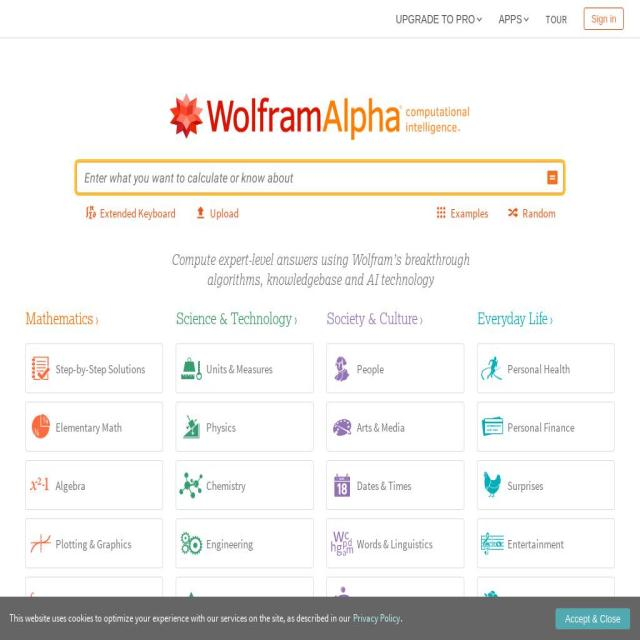button: (165, 55, 475, 162), (175, 344, 314, 394), (175, 402, 314, 452), (175, 460, 314, 510), (175, 518, 314, 568), (175, 576, 314, 626), (25, 344, 163, 394), (25, 402, 163, 452), (25, 460, 163, 510), (25, 518, 163, 568), (25, 576, 163, 626), (326, 344, 464, 394), (326, 402, 464, 452), (326, 460, 464, 510), (326, 518, 464, 568), (326, 576, 464, 626), (477, 344, 615, 394), (477, 402, 615, 452), (477, 460, 615, 510), (477, 518, 615, 568), (477, 576, 615, 626), (390, 4, 489, 34), (175, 309, 314, 327), (76, 201, 184, 224), (25, 309, 163, 327), (326, 309, 464, 327), (477, 309, 615, 327), (555, 607, 631, 630), (427, 201, 496, 224), (498, 201, 564, 224), (186, 201, 247, 224), (492, 4, 537, 34), (540, 4, 573, 34), (584, 8, 624, 30), (352, 610, 400, 626), (175, 635, 314, 640), (25, 635, 163, 640), (326, 635, 464, 640), (477, 635, 615, 640), (546, 169, 559, 186)
field: (81, 162, 542, 193)
heading: (176, 308, 292, 328), (327, 308, 417, 328), (478, 308, 548, 328), (26, 308, 93, 328)
image: (168, 93, 472, 140), (26, 348, 56, 388), (26, 406, 56, 446), (26, 465, 56, 505), (26, 524, 56, 564), (26, 582, 56, 622), (176, 348, 206, 388), (176, 406, 206, 446), (176, 465, 206, 505), (176, 524, 206, 564), (176, 582, 206, 622), (327, 348, 357, 388), (327, 406, 357, 446), (327, 465, 357, 505), (327, 524, 357, 564), (327, 582, 357, 622), (478, 348, 508, 388), (478, 406, 508, 446), (478, 465, 508, 505), (478, 524, 508, 564), (478, 582, 508, 622), (546, 169, 559, 186), (84, 204, 97, 221), (194, 204, 207, 221), (435, 204, 447, 221), (507, 204, 519, 221), (474, 13, 484, 25), (522, 13, 531, 25)
text: (170, 250, 470, 268), (10, 611, 352, 625), (206, 270, 434, 288), (206, 593, 302, 610), (56, 360, 145, 377), (100, 204, 176, 221), (56, 535, 131, 552), (357, 535, 432, 552), (56, 593, 130, 610), (508, 593, 582, 610), (56, 418, 122, 435), (206, 360, 272, 377), (508, 418, 574, 435), (396, 12, 476, 26), (357, 593, 422, 610), (508, 360, 570, 377), (508, 535, 564, 552), (357, 477, 411, 493), (357, 418, 405, 435), (206, 535, 253, 552), (353, 611, 400, 625), (206, 477, 246, 493), (451, 204, 488, 221), (522, 204, 556, 221), (508, 477, 543, 493), (206, 418, 236, 435), (210, 204, 239, 221), (56, 477, 86, 493), (357, 360, 384, 377), (592, 612, 621, 625), (565, 612, 593, 625), (546, 11, 568, 27), (498, 12, 522, 26), (591, 13, 617, 25), (400, 611, 402, 625)
